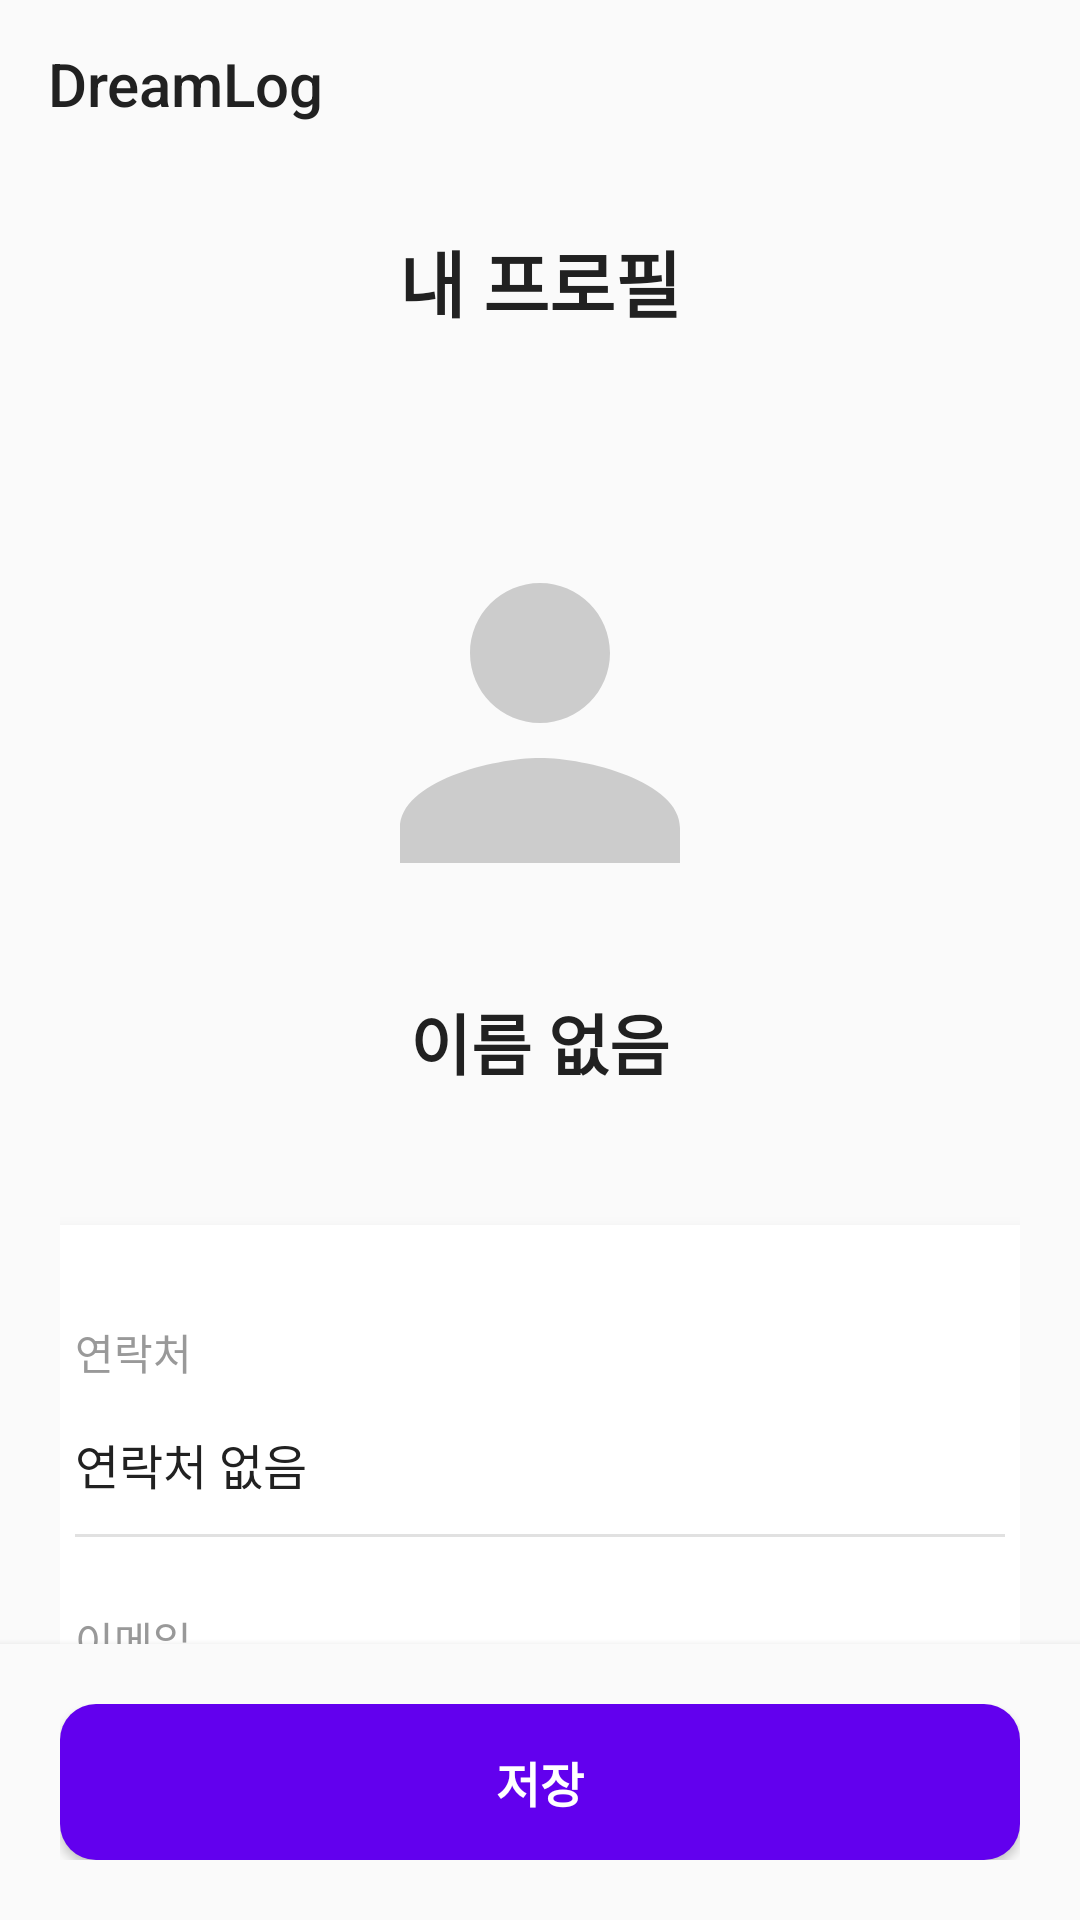

Screen size 1080w x 1920h. Icon name, then its box in pixels as (x1, y1, x2, y2):
profile: (400, 583, 680, 863)
